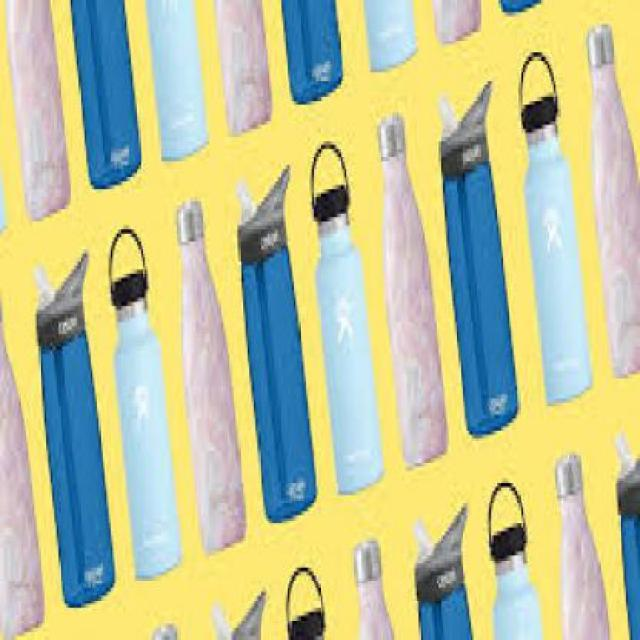Drinking: (21, 270, 124, 624), (236, 173, 318, 527)
